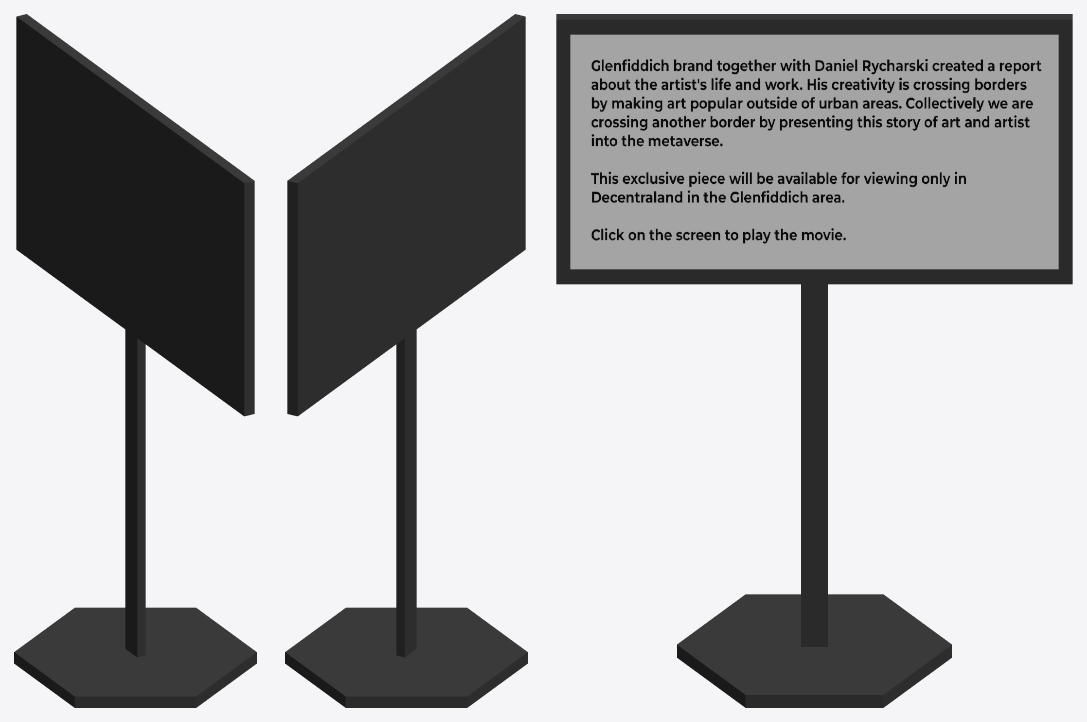
Rendered from panneau.glb.
3 views of the same model, side by side, from view 1: azimuth 30°, elevation 25°; view 2: azimuth 150°, elevation 25°; view 3: azimuth 270°, elevation 25° (orthographic). The views are drawn at different scales.
Visible parts, largest first — view 1: panneau; view 2: panneau; view 3: panneau.
Part boxes in pixels (<box>): panneau: <box>14,14,256,707</box>; panneau: <box>285,14,527,707</box>; panneau: <box>556,14,1072,707</box>.
Size of what is drawn, in the model's own units: 0.6863 by 2.04 by 1.49.
Materials: 2 (1 with a texture image).
